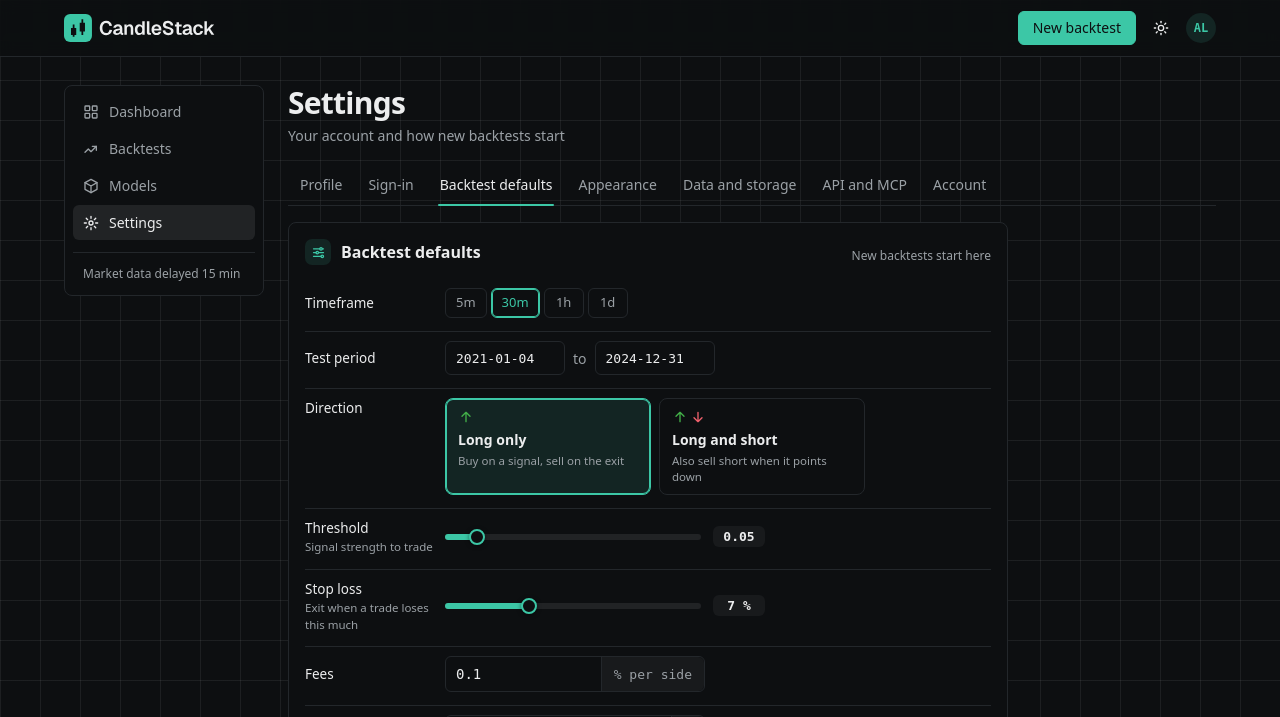
Test case: Backtest defaults › says why the defaults could not be saved
Click the radio button labelled "1d" at (608, 303), box left=588, top=288, right=628, bottom=318
(page scrolled)
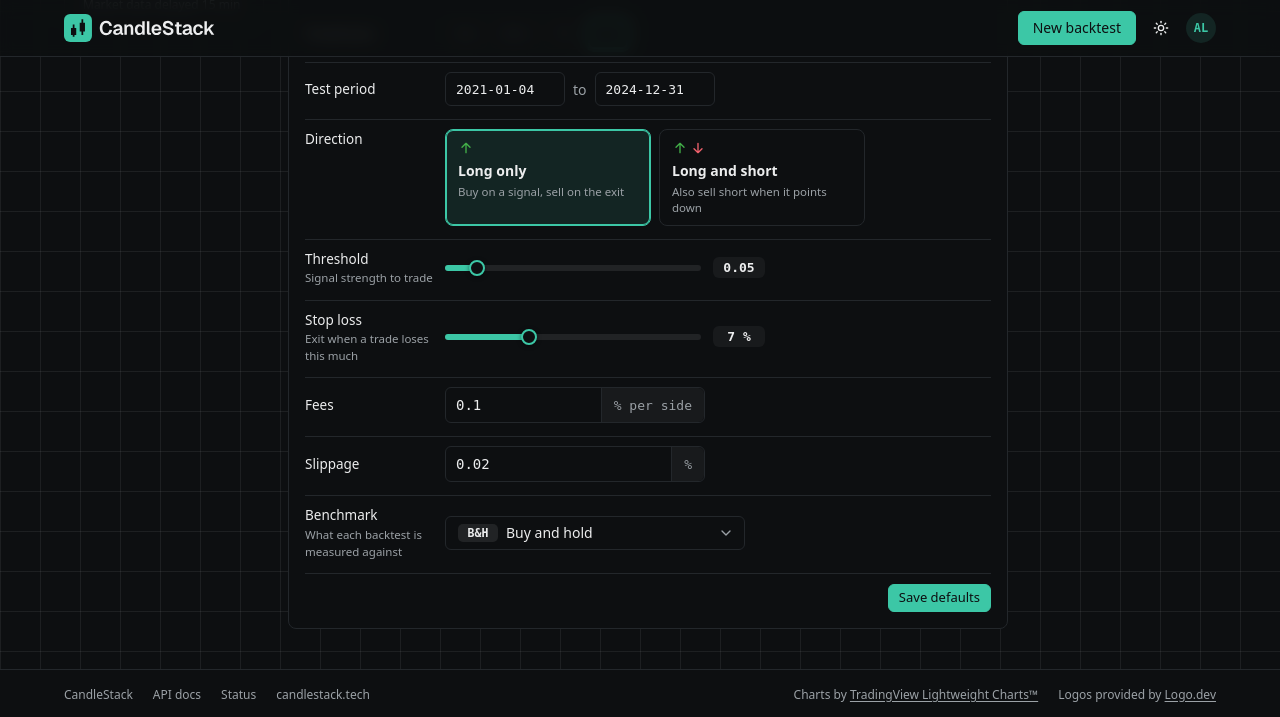
Click the button "Save defaults" at (939, 598), box left=888, top=584, right=991, bottom=612
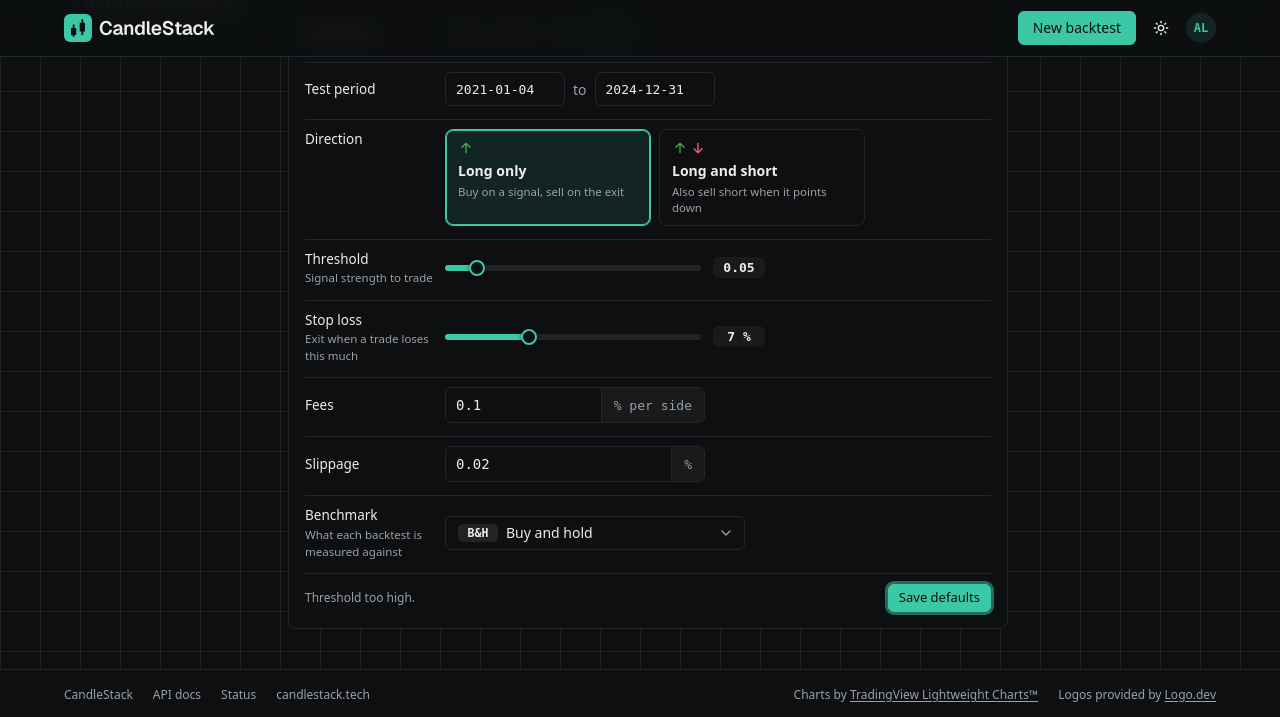
Expected: the message reads "Threshold too high.", left=305, top=589, right=415, bottom=606
